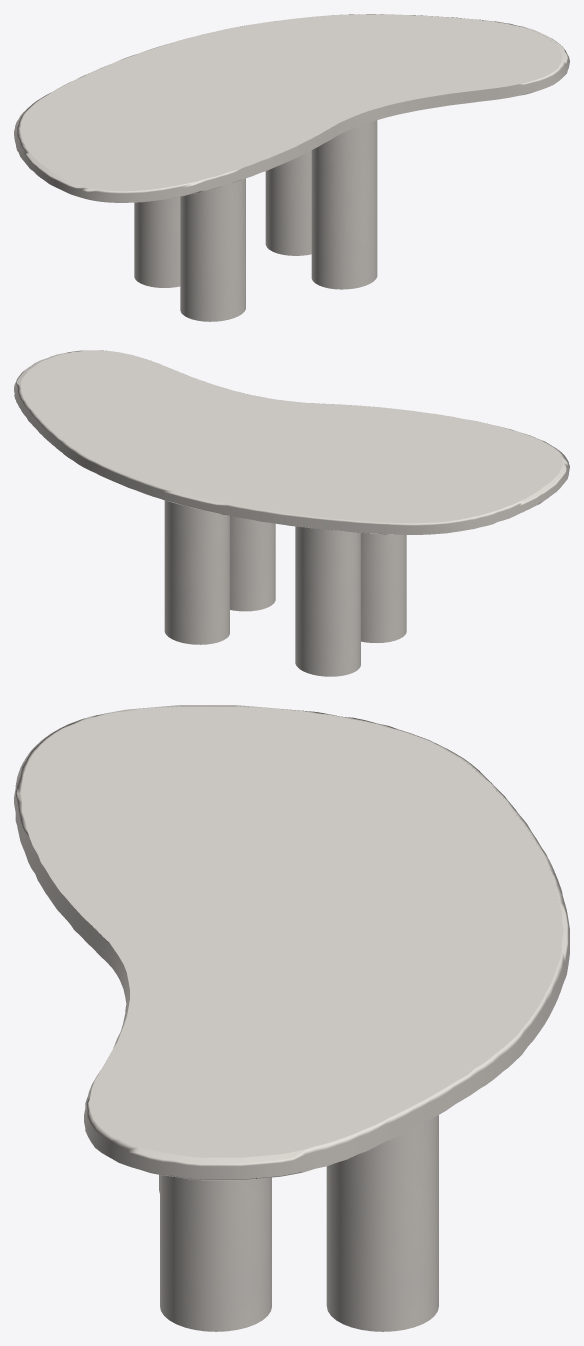
File: pearlwhite_leaf1_round_grove.glb
3 renders of one model, top to bottom at view 1: azimuth 30°, elevation 25°; view 2: azimuth 150°, elevation 25°; view 3: azimuth 270°, elevation 25°, orthographic. The views are drawn at different scales.
Visible parts, largest first — view 1: round_leaf1, grove; view 2: round_leaf1, grove; view 3: round_leaf1, grove.
Part boxes in pixels (<box>): round_leaf1: <box>14,14,569,202</box>; grove: <box>134,120,377,321</box>; round_leaf1: <box>14,350,569,534</box>; grove: <box>164,500,406,676</box>; round_leaf1: <box>14,705,569,1180</box>; grove: <box>159,1115,438,1331</box>.
Bounding box in the file's own units: 7.49 × 2.52 × 3.8.
1 material, 1 textured.
